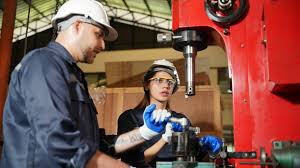Casco de seguridad: (50, 0, 120, 42), (143, 60, 184, 83)
